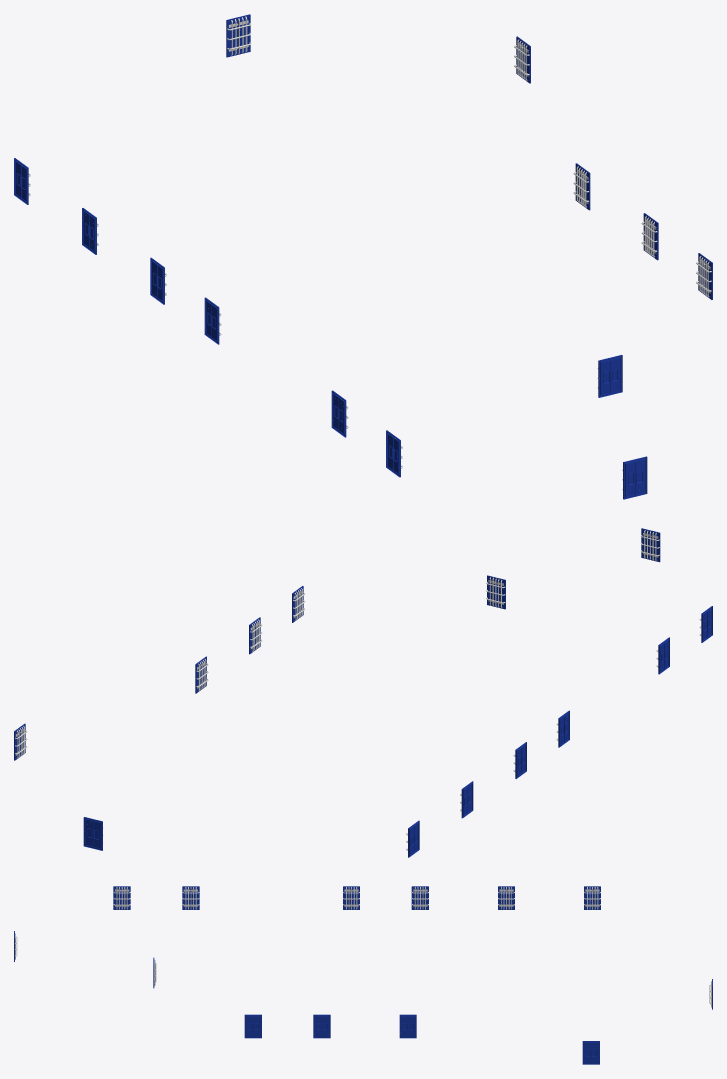
Rendered from casaraoSoJanelas.fbx.
The picture shows the model from 3 angles, top to bottom: view 1: azimuth 30°, elevation 25°; view 2: azimuth 150°, elevation 25°; view 3: azimuth 270°, elevation 25°; orthographic projection. The views are drawn at different scales.
Parts seen in each view (by area): view 1: janela.011, janela.012; view 2: janela.006; view 3: janela.009, janela.008, janela.010, janela.007, janela.001, janela, janela.003, janela.004, janela.002, janela.005.
Part boxes in pixels (x1,y1,x2,y2): janela.011: (598,355,622,397); janela.012: (623,456,647,499); janela.006: (83,817,102,850); janela.009: (313,1014,330,1038); janela.008: (399,1014,416,1038); janela.010: (244,1014,261,1038); janela.007: (582,1041,599,1064); janela.001: (113,886,130,909); janela: (182,886,199,909); janela.003: (411,886,428,909); janela.004: (498,886,514,909); janela.002: (343,886,359,909); janela.005: (584,886,600,909).
Bounding box in the file's own units: 2130 × 150 × 4060.
